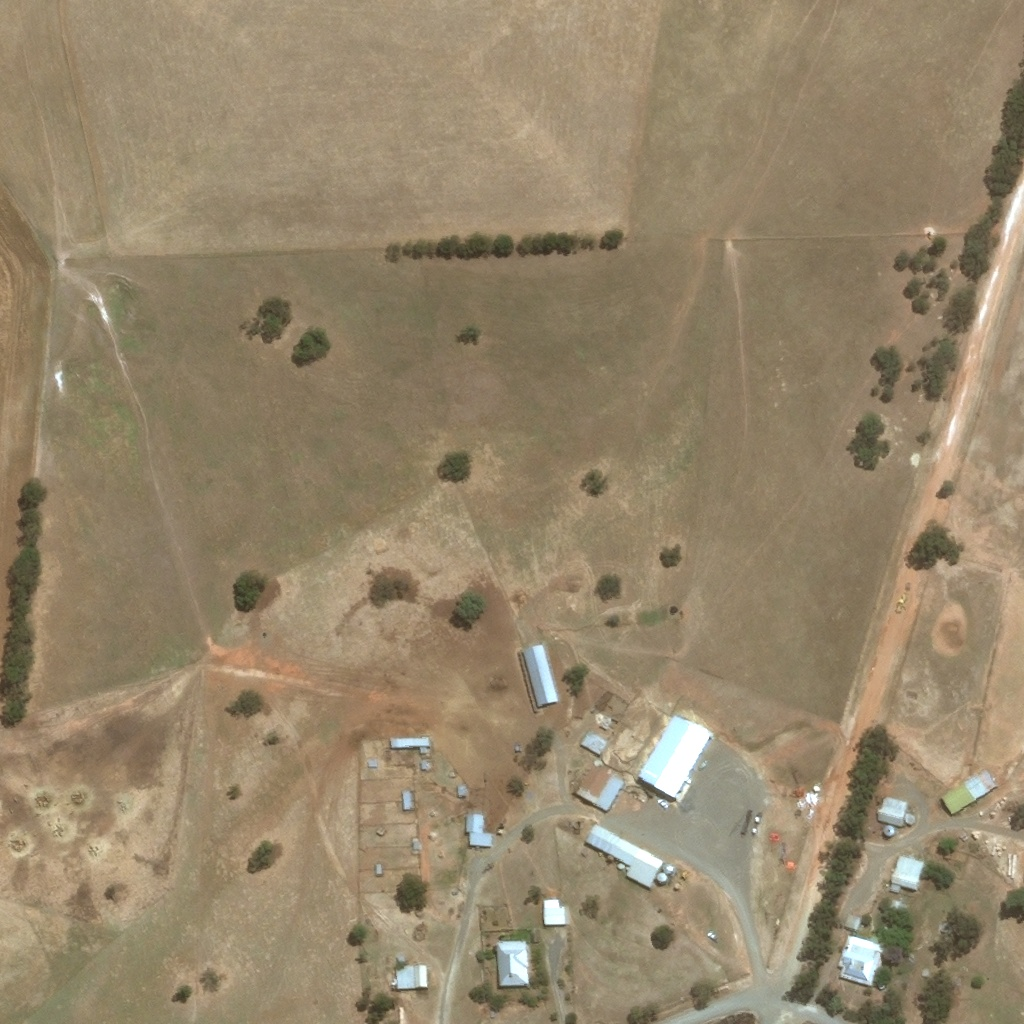0 no-damage: (639, 708, 715, 796), (586, 820, 666, 885), (940, 767, 999, 814), (837, 932, 885, 987), (576, 759, 625, 809), (522, 642, 559, 706), (494, 939, 529, 985), (876, 795, 917, 827), (891, 853, 925, 890), (465, 810, 492, 845), (394, 963, 427, 991), (387, 737, 430, 755), (580, 727, 609, 753), (542, 899, 566, 925), (844, 913, 861, 931), (599, 713, 613, 729), (409, 838, 419, 856), (888, 897, 902, 909), (888, 882, 901, 894), (883, 823, 895, 835), (373, 826, 385, 838), (456, 784, 466, 798), (401, 791, 408, 810), (664, 859, 676, 870), (532, 928, 542, 941), (658, 869, 669, 880), (374, 864, 381, 877), (418, 761, 427, 770), (366, 761, 376, 769), (409, 794, 414, 810), (878, 980, 886, 989), (396, 955, 406, 962), (921, 969, 929, 977), (812, 784, 819, 791), (488, 1011, 494, 1019), (619, 861, 626, 867), (451, 888, 457, 895)
